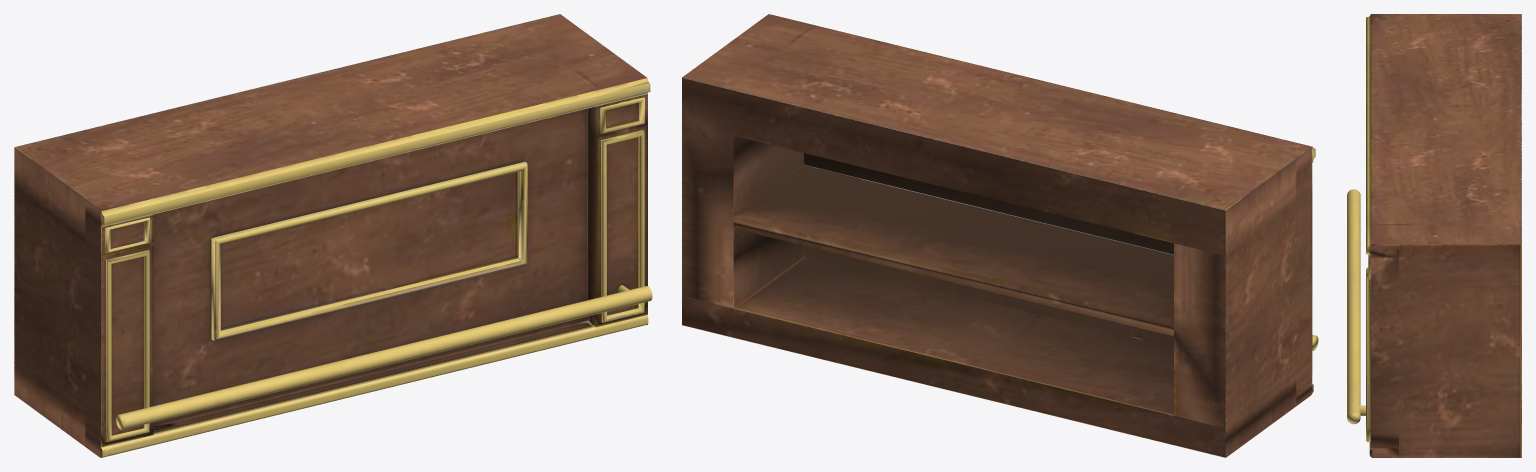
The model's file is bar-counter.glb.
3 views of the same model, side by side, from view 1: azimuth 30°, elevation 25°; view 2: azimuth 150°, elevation 25°; view 3: azimuth 270°, elevation 25° (orthographic). The views are drawn at different scales.
Visible parts, largest first — view 1: polySurface2; view 2: polySurface2; view 3: polySurface2.
Boxes of the visible parts, <box> form: polySurface2: <box>14,14,652,457</box>; polySurface2: <box>682,14,1318,457</box>; polySurface2: <box>1347,14,1521,457</box>.
Size of the model in its own units: 2.53 by 1.1 by 0.814.
1 material, 1 textured.
